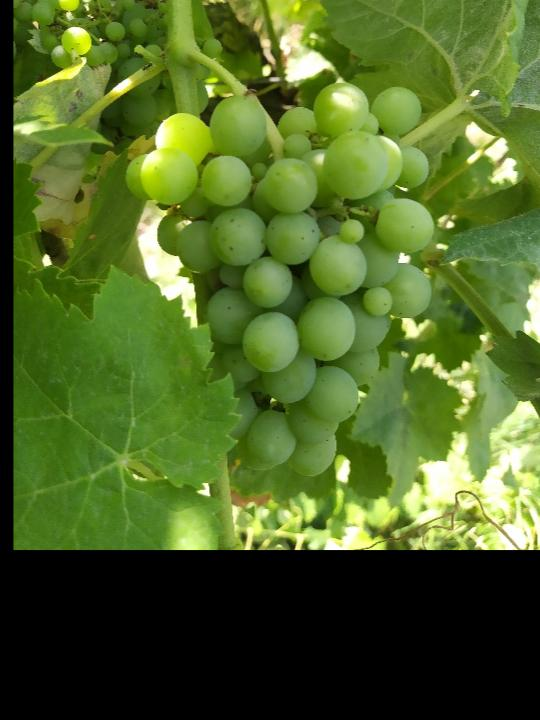grape: (123, 81, 434, 480)
